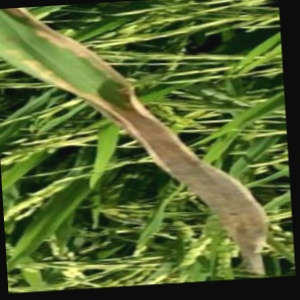Leaf_Blast: (45, 26, 136, 143)
